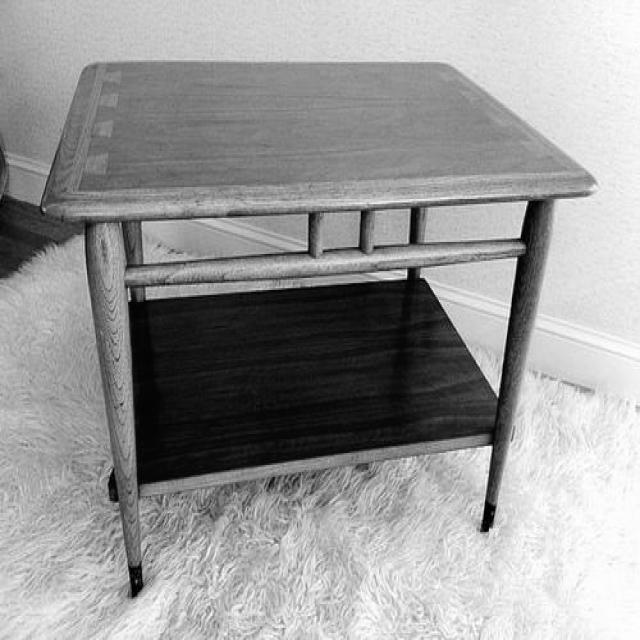table: (35, 58, 599, 592)
